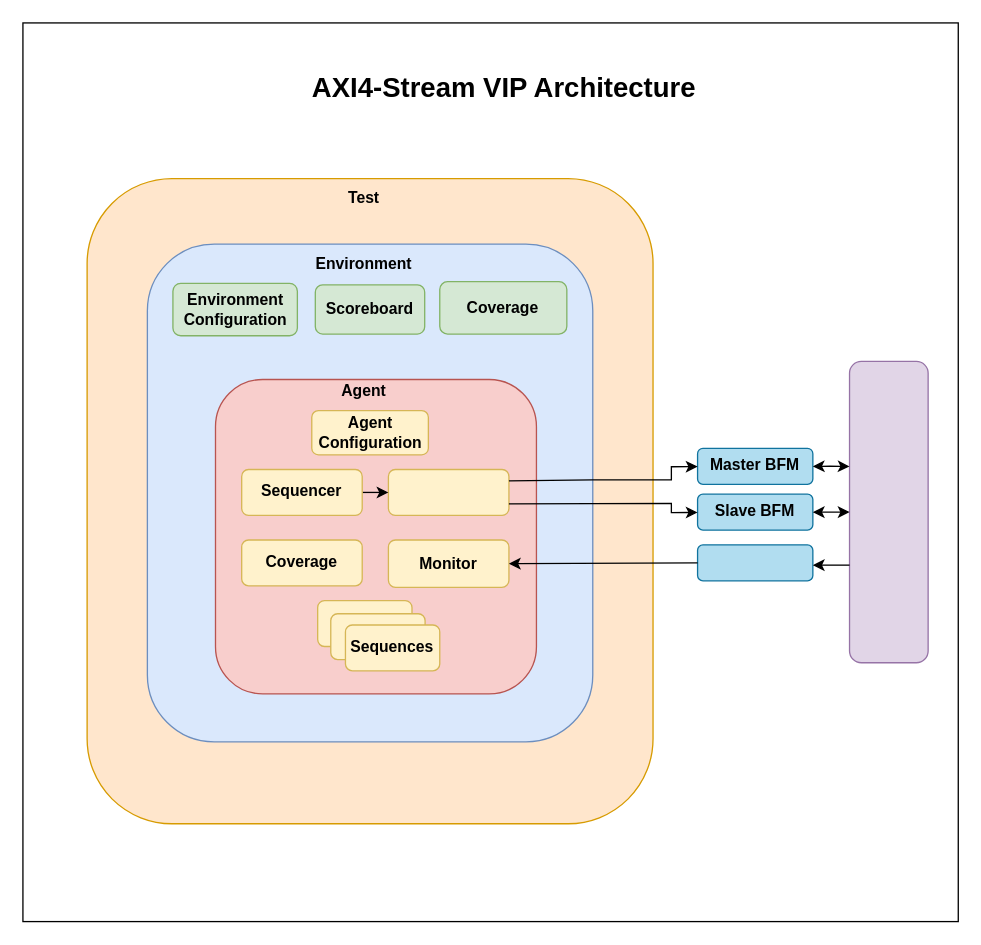
Some shapes in this 981 by 945 pixel diagram are drawn without their labels. The centre of each missing label's shape, as x and y in pixels:
"Driver" belongs at point 448,491.
"Monitor BFM" belongs at point 754,562.
"Pin Interface" belongs at point 888,511.
